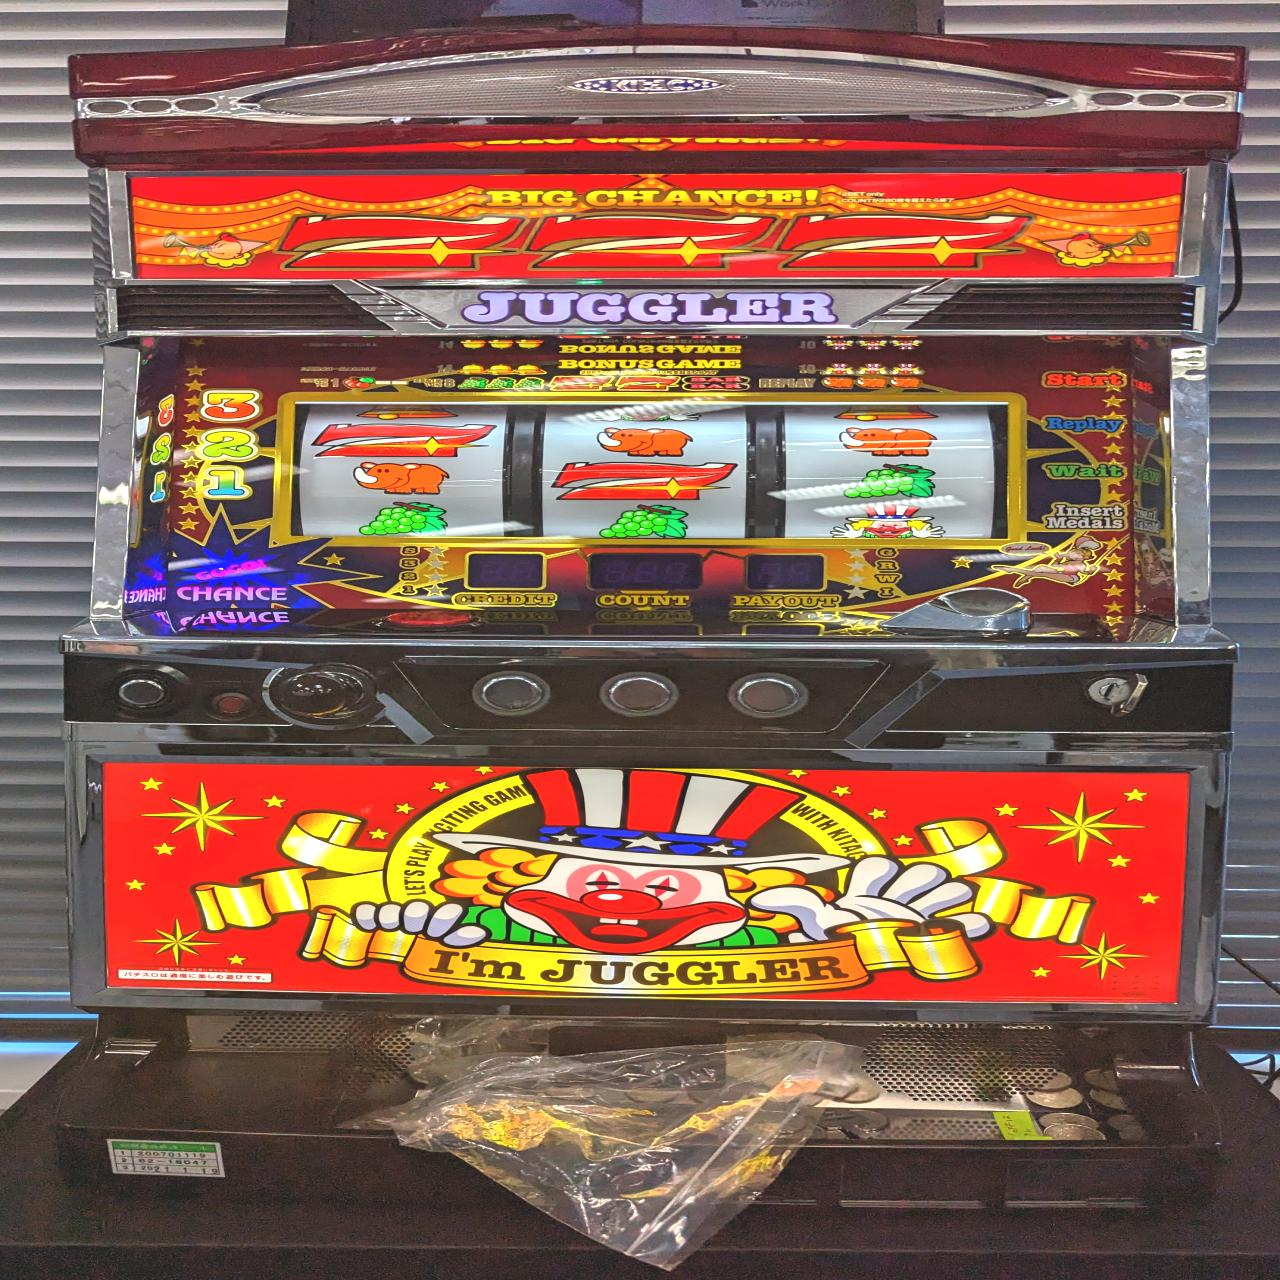7: (551, 461, 733, 502), (313, 422, 498, 459)
Display: (286, 395, 1020, 544)
clown: (831, 503, 945, 540)
grape: (355, 502, 454, 537), (840, 463, 935, 499), (594, 504, 690, 539)
rhino: (350, 461, 450, 496), (837, 425, 941, 458), (594, 427, 694, 457)
